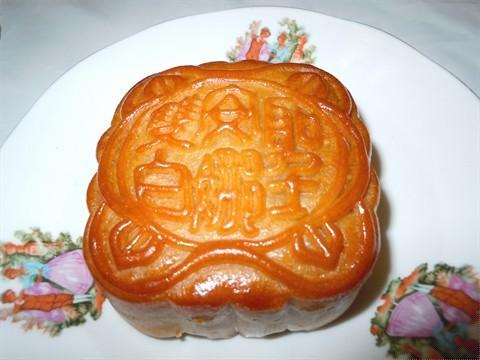MoonCake: (81, 59, 379, 339)
